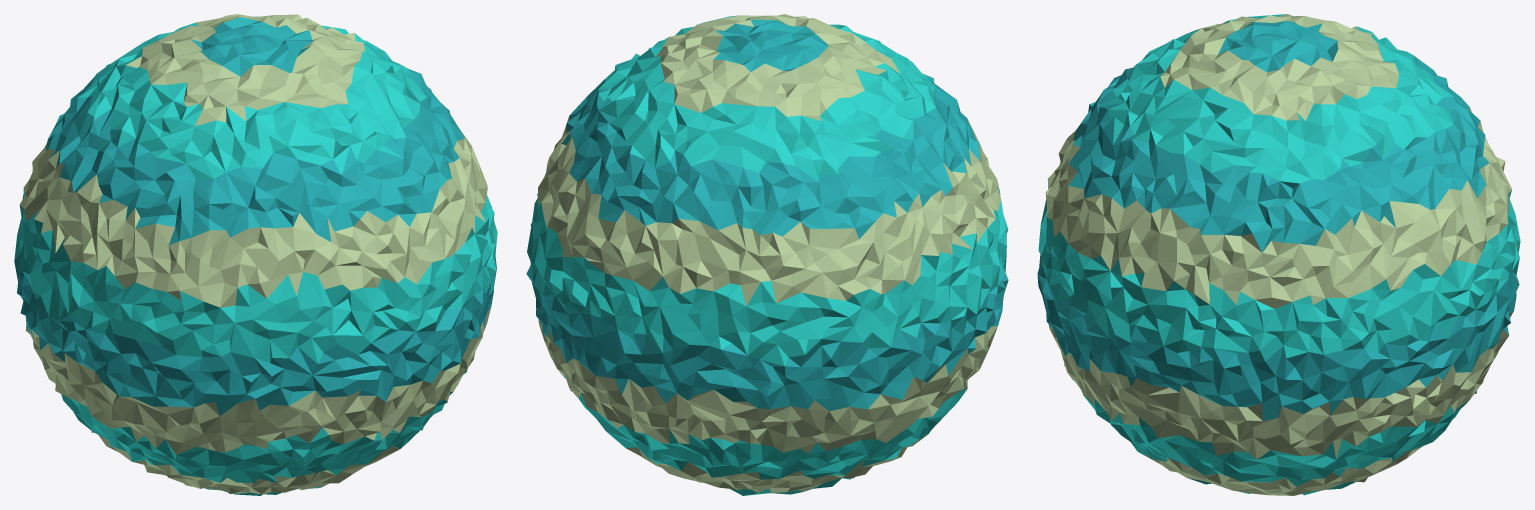
File: uranus0.fbx
The picture shows the model from 3 angles, left to right: view 1: azimuth 30°, elevation 25°; view 2: azimuth 150°, elevation 25°; view 3: azimuth 270°, elevation 25°; orthographic projection.
Parts seen in each view (by area): view 1: Icosphere; view 2: Icosphere; view 3: Icosphere.
Part boxes in pixels (x1,y1,x2,y2): Icosphere: (14,14,497,495); Icosphere: (526,14,1008,495); Icosphere: (1037,14,1520,495).
Size of the model in its own units: 211 by 210 by 211.
